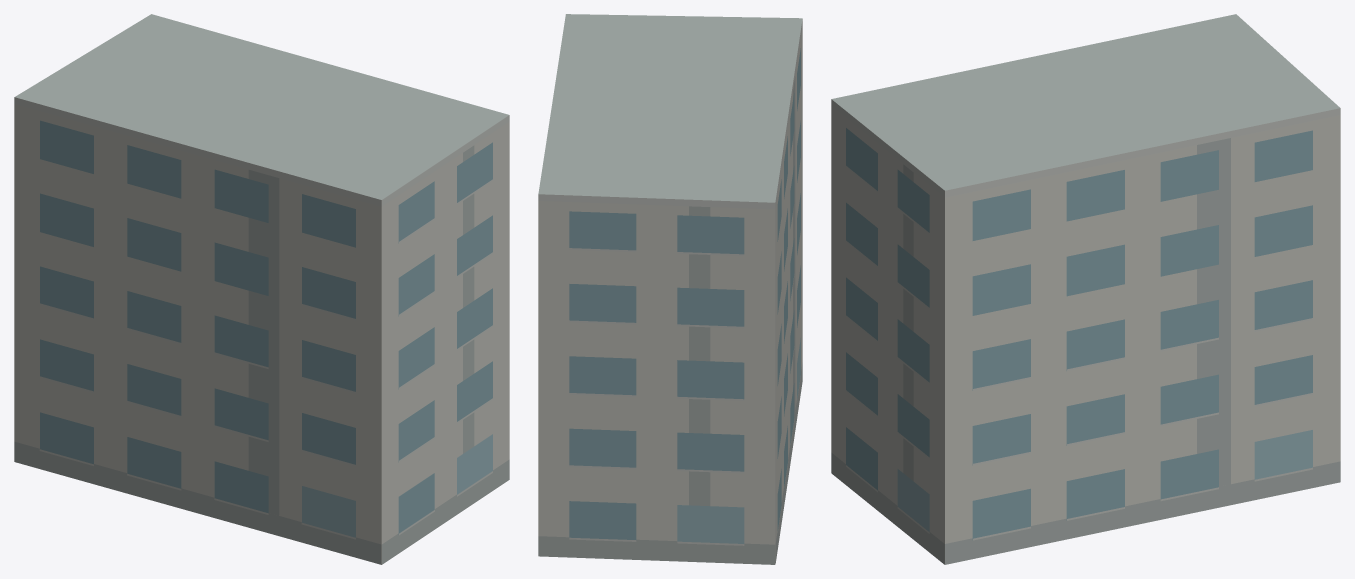
Rendered from survey-upis-32947924.glb.
The picture shows the model from 3 angles, left to right: view 1: azimuth 30°, elevation 25°; view 2: azimuth 150°, elevation 25°; view 3: azimuth 270°, elevation 25°; orthographic projection. The views are drawn at different scales.
Parts seen in each view (by area): view 1: survey-upis-32947924.tmp; view 2: survey-upis-32947924.tmp; view 3: survey-upis-32947924.tmp.
Part boxes in pixels (bbox=[...]): survey-upis-32947924.tmp: bbox=[14, 14, 509, 564]; survey-upis-32947924.tmp: bbox=[538, 14, 802, 564]; survey-upis-32947924.tmp: bbox=[831, 14, 1340, 564].
Bounding box in the file's own units: 13.28 × 13.1 × 16.17.
